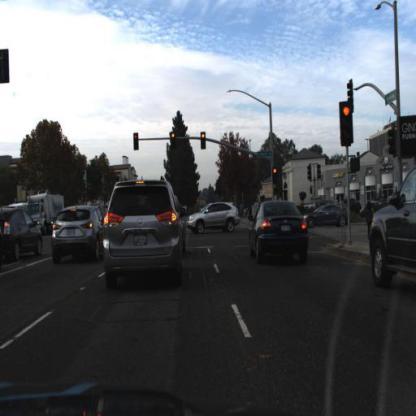car: (101, 176, 185, 288), (369, 167, 416, 291), (250, 200, 310, 265), (52, 204, 105, 264), (185, 195, 243, 242), (1, 207, 43, 260), (186, 201, 240, 235), (301, 204, 350, 230)
pedestrian: (364, 200, 376, 241)
trafficLight: (133, 134, 141, 152)
trafficLight-Red: (339, 101, 354, 146), (272, 166, 280, 185), (170, 131, 177, 148), (201, 133, 206, 150), (272, 168, 278, 182)
truck: (25, 190, 69, 233), (27, 192, 64, 233)
